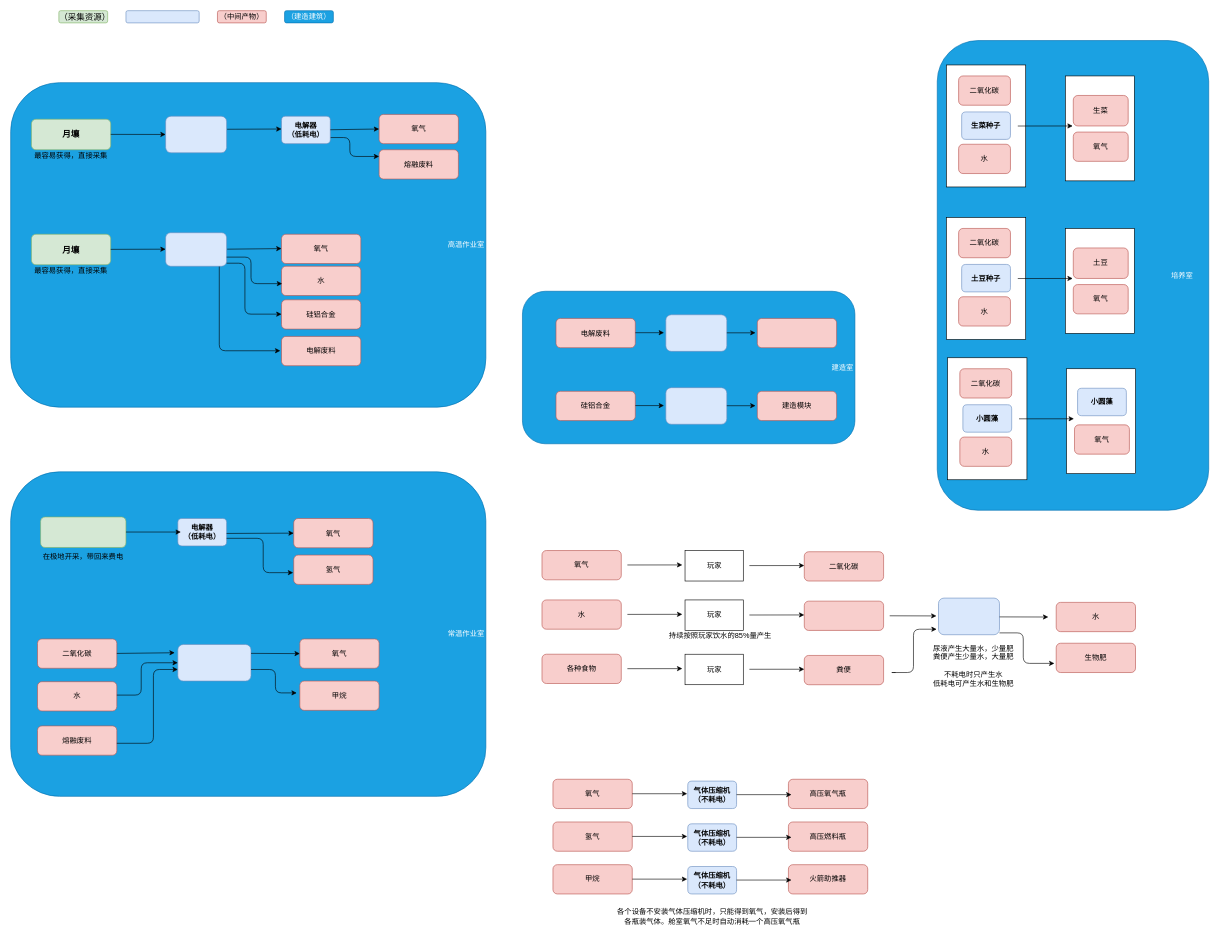
Image size: 1219x936. Some labels were removed from this diagram. The centre of each missing label's shape, as x and y in pixels:
3D打印机 （中耗电）: the point at 696,405
人工光合作用反应器 （中耗电）: the point at 214,662
净化系统 （不耗电）: the point at 968,616
尿液: the point at 844,615
月冰（极地）: the point at 83,531
熔盐固态解离仪 （高耗电）: the point at 196,249
熔融萃取炉 （中耗电）: the point at 196,134
精炼炉 （高耗电）: the point at 696,332
钛合金: the point at 797,333
（购买设备或资源）: the point at 162,16
